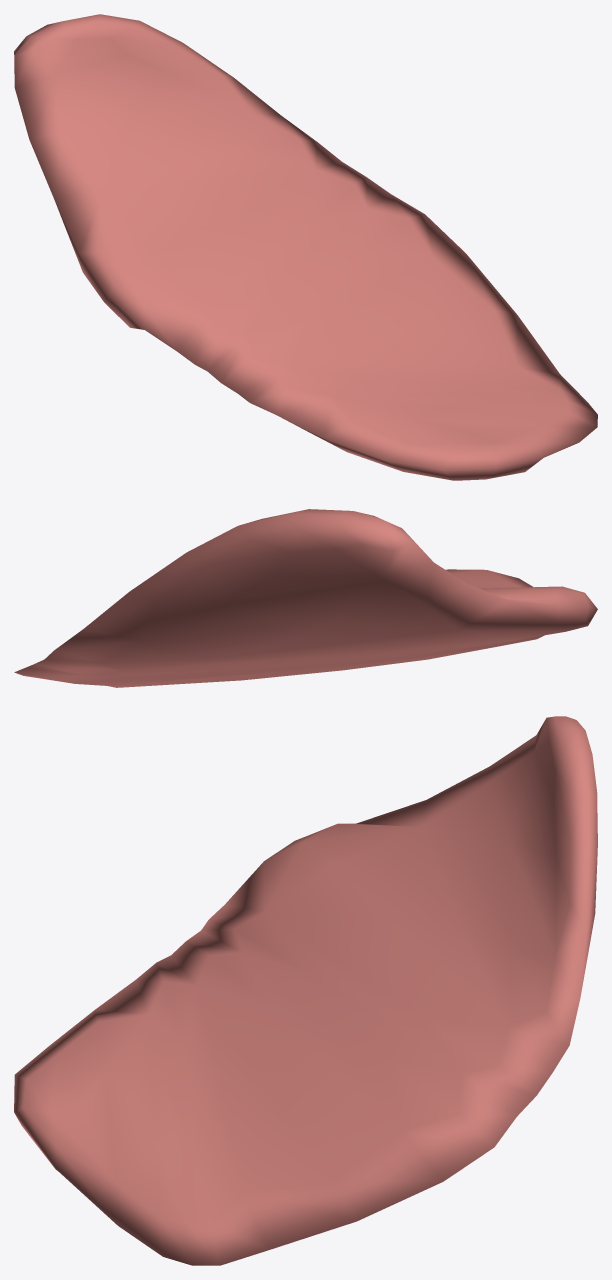
3 renders of one model, top to bottom at view 1: azimuth 30°, elevation 25°; view 2: azimuth 150°, elevation 25°; view 3: azimuth 270°, elevation 25°, orthographic. The views are drawn at different scales.
Visible parts, largest first — view 1: ZA_43effa3d2260c1aa; view 2: ZA_43effa3d2260c1aa; view 3: ZA_43effa3d2260c1aa.
Boxes of the visible parts, x1,y1,x2,y2 form: ZA_43effa3d2260c1aa: [14, 14, 597, 480]; ZA_43effa3d2260c1aa: [14, 509, 597, 687]; ZA_43effa3d2260c1aa: [14, 716, 597, 1265].
Size of the model in its own units: 0.00565 by 0.00422 by 0.00621.
